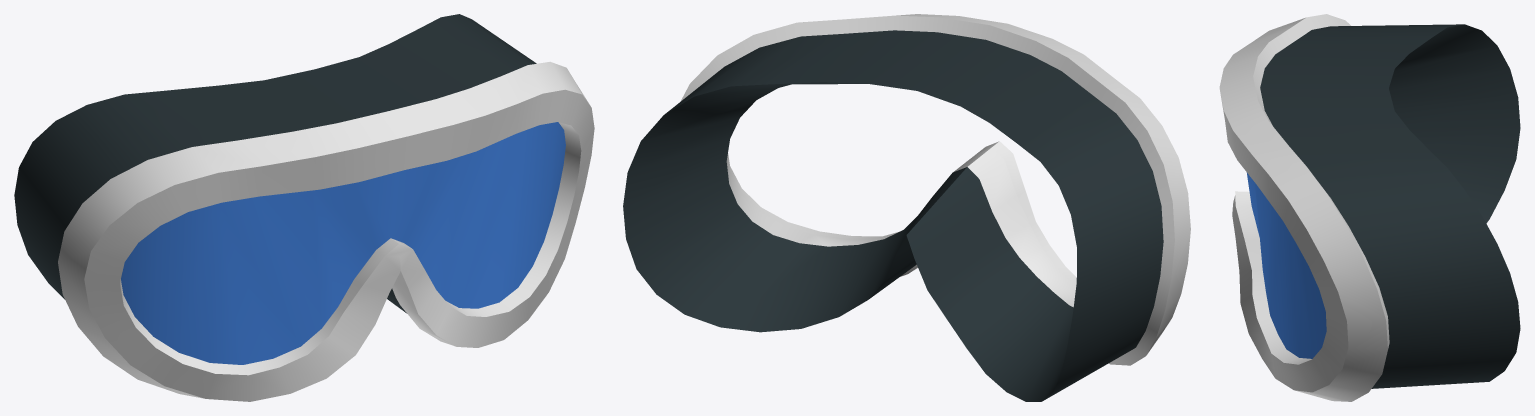
File: snowGoggles.gltf.glb
3 views of the same model, side by side, from view 1: azimuth 30°, elevation 25°; view 2: azimuth 150°, elevation 25°; view 3: azimuth 270°, elevation 25° (orthographic). The views are drawn at different scales.
Visible parts, largest first — view 1: snowGoggles; view 2: snowGoggles; view 3: snowGoggles.
Boxes of the visible parts, x1,y1,x2,y2 form: snowGoggles: [14, 14, 594, 401]; snowGoggles: [623, 14, 1190, 401]; snowGoggles: [1219, 14, 1520, 401].
Size of the model in its own units: 1.17 by 0.6018 by 0.6454.
